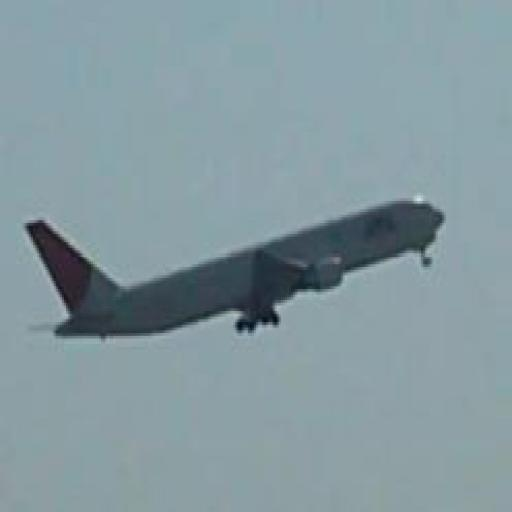aircraft: (23, 197, 446, 337)
